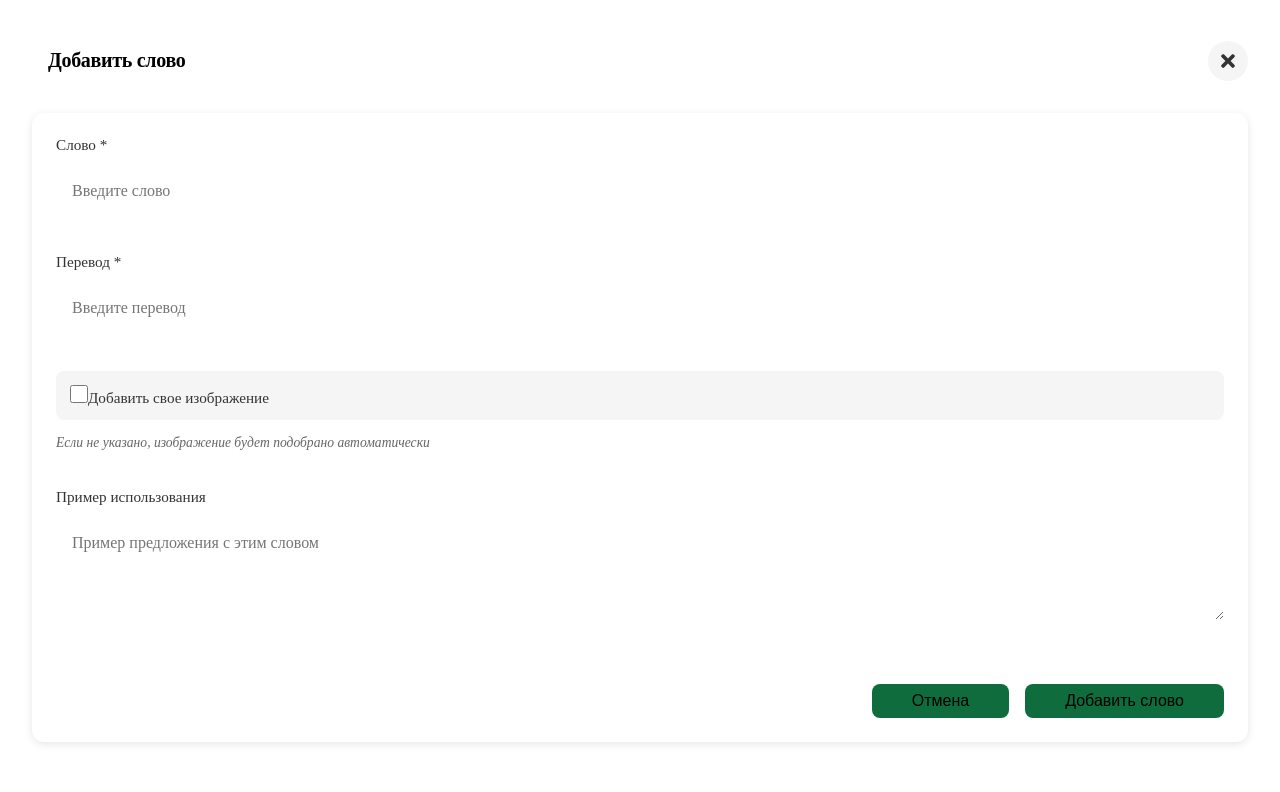
Test: AddWord Component › обрабатывает общие ошибки сервера
# Заполняем форму
Type "Hello" into the field labelled "Слово *" at (640, 191), box [56,168,1224,214]
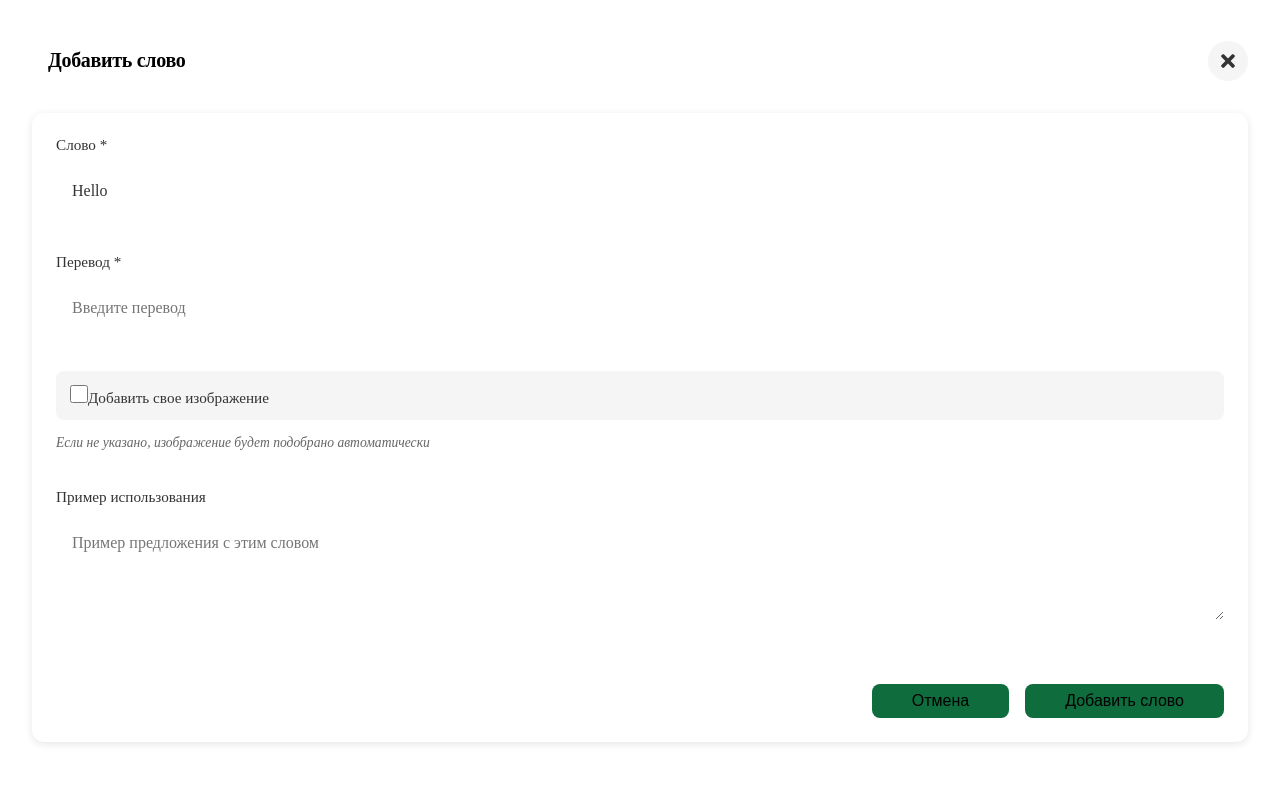
Type "Привет" into the field labelled "Перевод *" at (640, 308), box [56,285,1224,331]
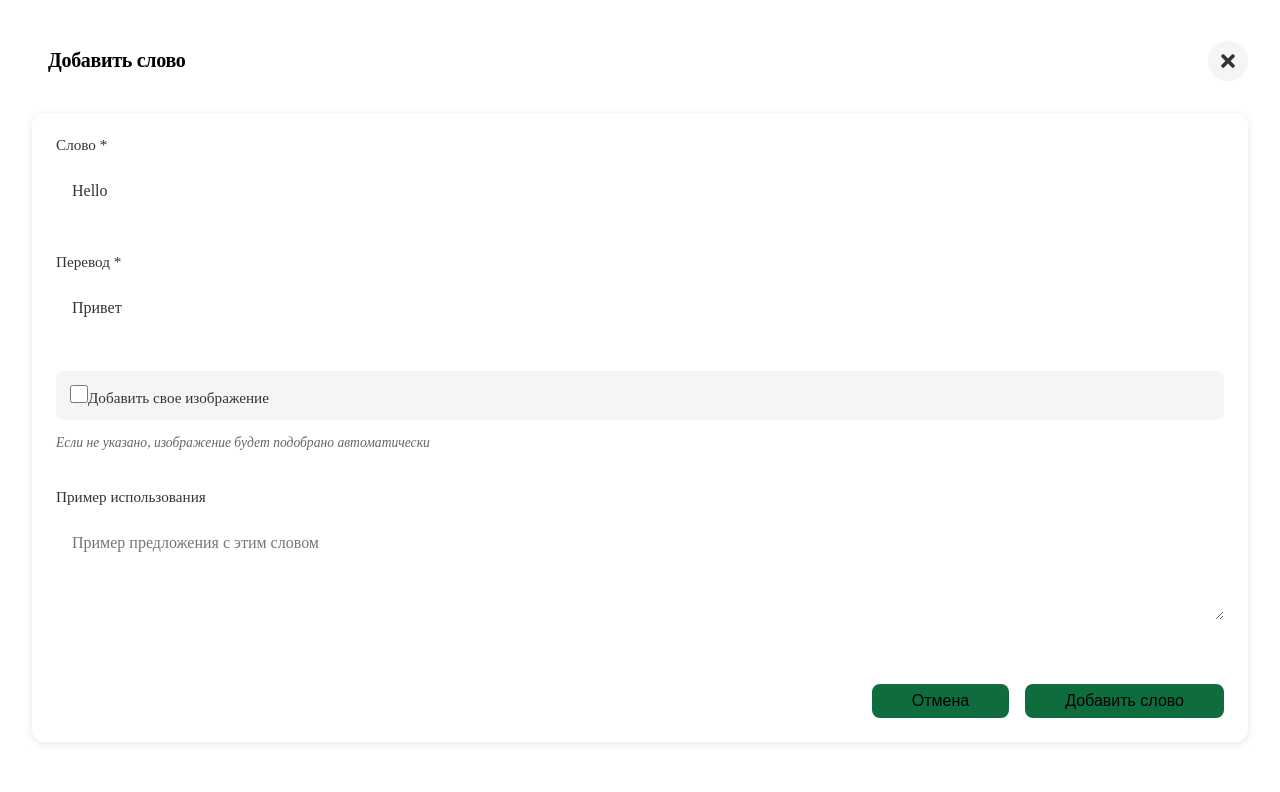
Click the button "Добавить слово" at (1125, 701), box [1025,684,1224,718]
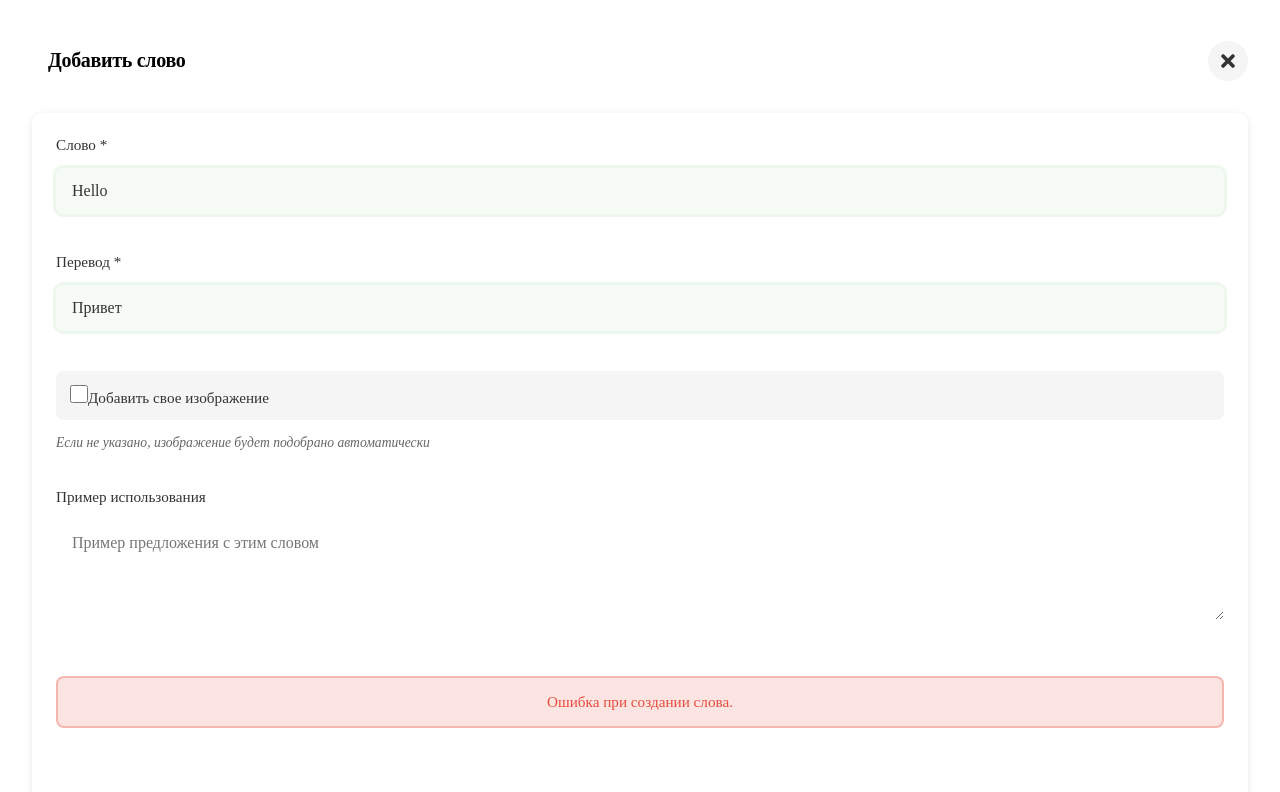
expect the text "Ошибка при создании слова." is shown: met, box [56,676,1224,728]
